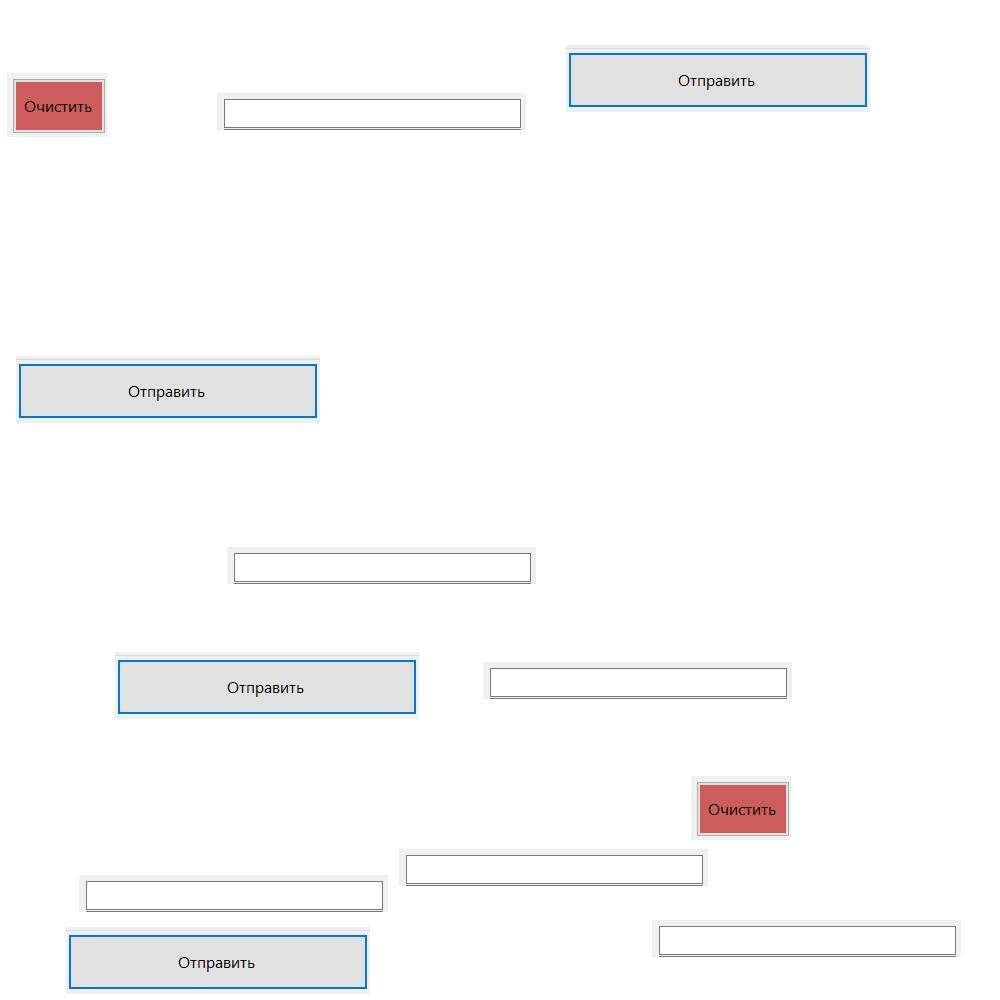Button: (16, 356, 320, 423), (115, 652, 419, 719), (66, 927, 370, 994), (566, 45, 870, 112), (691, 776, 791, 840), (7, 73, 107, 137)
EditText-: (227, 547, 536, 584), (79, 875, 388, 912), (483, 662, 792, 699), (652, 920, 961, 957), (399, 849, 708, 886), (217, 93, 526, 130)
